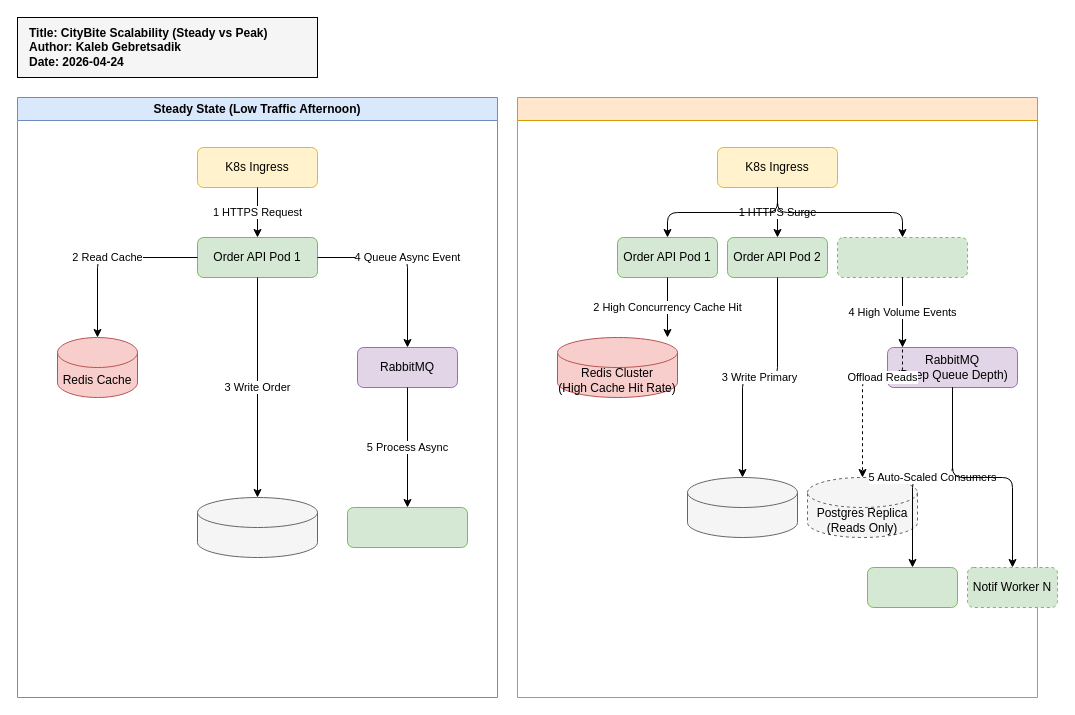
Image size: 1075x715. Some labels were removed from this diagram. The box of each missing label's shape, as (x1, y1, x2, y2) in pixels:
Notif Worker 1: (866, 566, 958, 608)
Notification Worker: (346, 506, 468, 548)
Order API Pod N (HPA): (836, 236, 968, 278)
Peak State (Friday Dinner Rush): (516, 96, 1038, 698)
Postgres Primary (Reads/Writes): (196, 496, 318, 558)
Postgres Primary (Writes Only): (686, 476, 798, 538)
